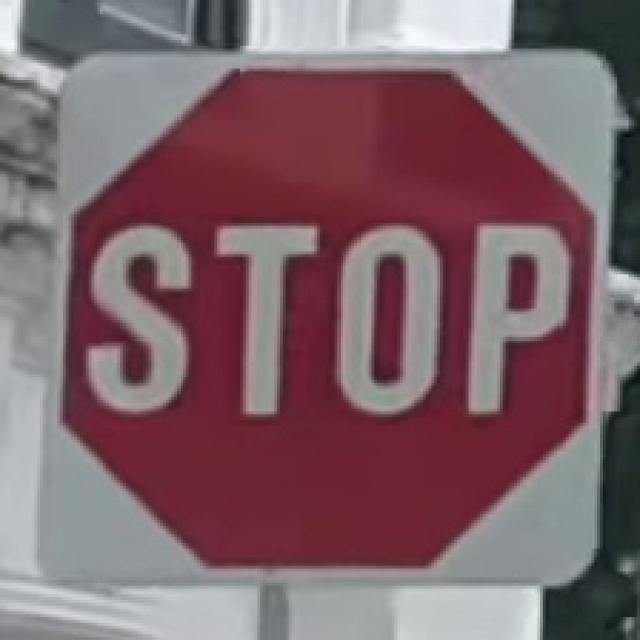mandatorystop_sign: (43, 48, 617, 586)
